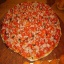pizza: (1, 4, 62, 61)
